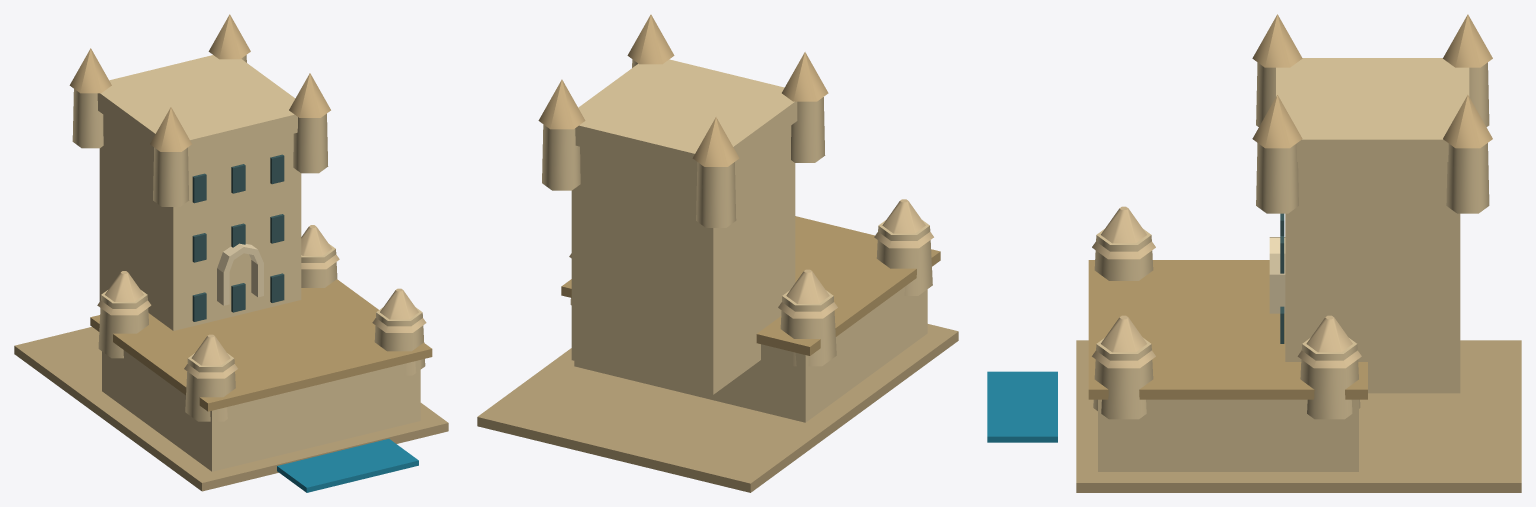
File: belem-tower.glb
3 renders of one model, left to right at view 1: azimuth 30°, elevation 25°; view 2: azimuth 150°, elevation 25°; view 3: azimuth 270°, elevation 25°, orthographic. The views are drawn at different scales.
Parts seen in each view (by area): view 1: body_D5C5A5, body_B9AA8C, base_C8B99A, roof_C9BB9C, roof_C1B092, water_edge_6A9695, detail_6E7262, body_E6D7B9; view 2: body_D5C5A5, base_C8B99A, body_B9AA8C, roof_C1B092, roof_C9BB9C; view 3: body_D5C5A5, base_C8B99A, body_B9AA8C, roof_C1B092, water_edge_6A9695, roof_C9BB9C, body_E6D7B9.
Part boxes in pixels (bbox=[...]): body_D5C5A5: bbox=[72, 55, 425, 471]; body_B9AA8C: bbox=[90, 279, 432, 411]; base_C8B99A: bbox=[14, 327, 448, 491]; roof_C9BB9C: bbox=[97, 225, 426, 378]; roof_C1B092: bbox=[69, 14, 330, 151]; water_edge_6A9695: bbox=[277, 439, 418, 492]; detail_6E7262: bbox=[192, 154, 284, 321]; body_E6D7B9: bbox=[217, 243, 263, 305]; body_D5C5A5: bbox=[542, 59, 932, 422]; base_C8B99A: bbox=[477, 324, 958, 492]; body_B9AA8C: bbox=[561, 216, 940, 355]; roof_C1B092: bbox=[538, 14, 828, 166]; roof_C9BB9C: bbox=[569, 199, 933, 318]; body_D5C5A5: bbox=[1093, 58, 1489, 471]; base_C8B99A: bbox=[1076, 340, 1521, 492]; body_B9AA8C: bbox=[1088, 260, 1367, 399]; roof_C1B092: bbox=[1252, 14, 1492, 148]; water_edge_6A9695: bbox=[987, 371, 1057, 442]; roof_C9BB9C: bbox=[1092, 206, 1361, 368]; body_E6D7B9: bbox=[1269, 237, 1285, 313].
Bounding box in the file's own units: 0.6322 × 0.7586 × 1.
